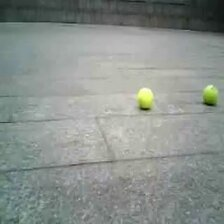tennis: (136, 87, 152, 108), (203, 84, 218, 104)
